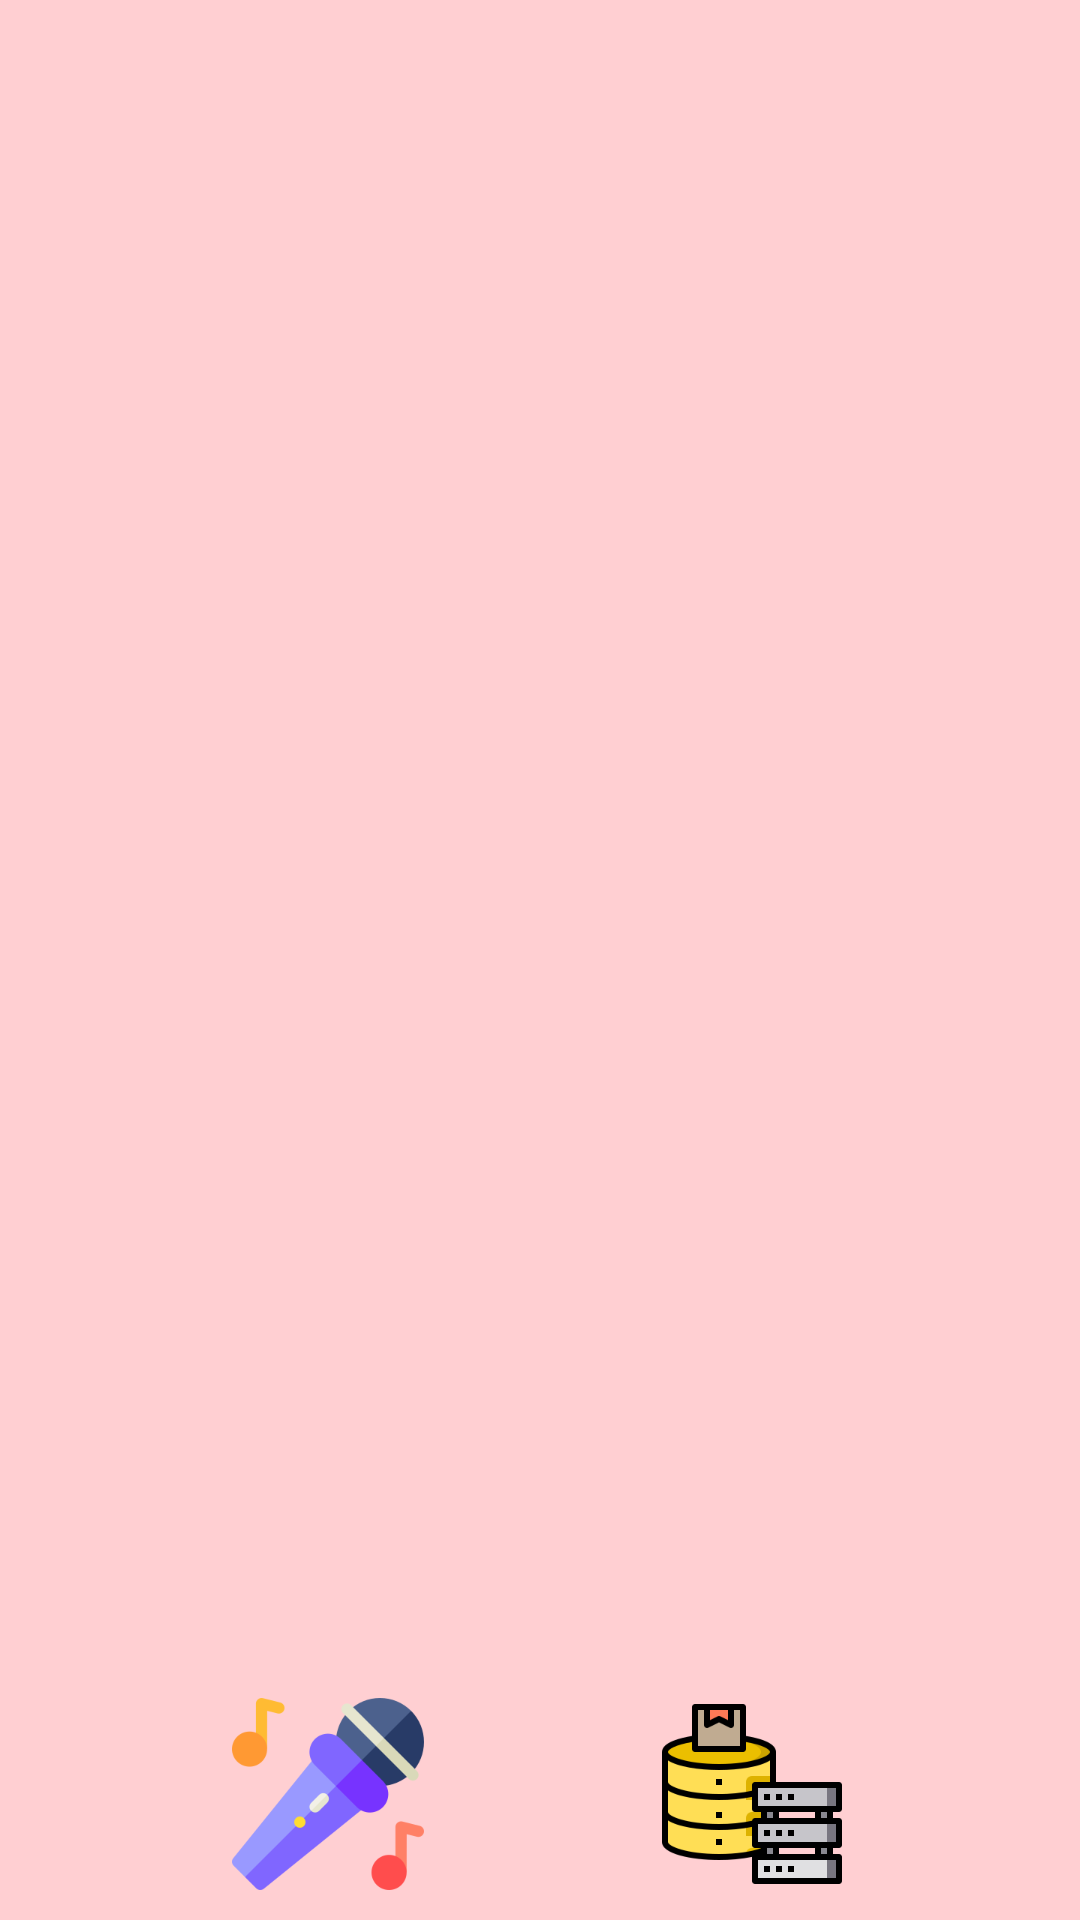

Locate icon controls on the screen. Image size 1080 x 1920, boxes as (x1, y1, x2, y2).
mic: (232, 1698, 424, 1890)
